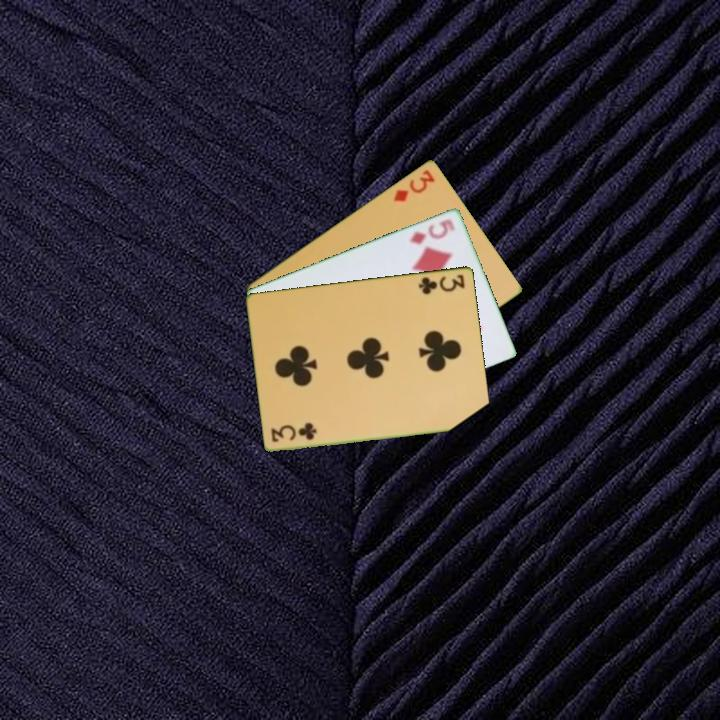3c: (415, 271, 468, 297), (268, 421, 320, 445)
3d: (390, 166, 438, 204)
5d: (406, 215, 458, 247)
